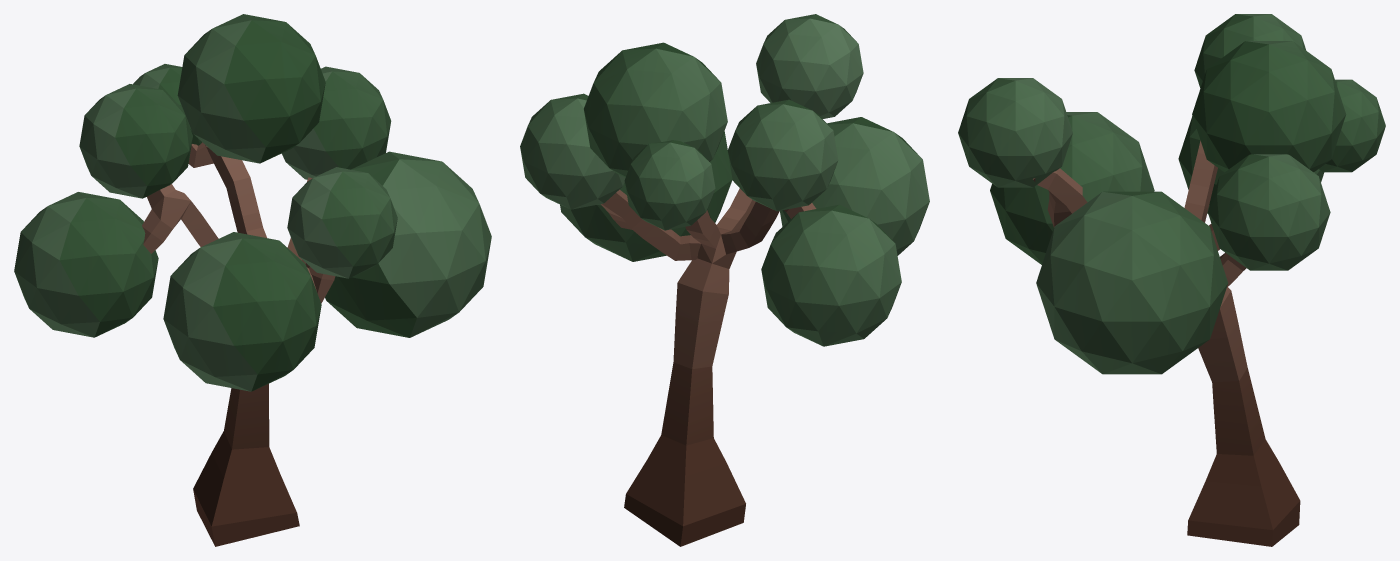
Rendered from Arvore_Verde1.fbx.
The picture shows the model from 3 angles, left to right: view 1: azimuth 30°, elevation 25°; view 2: azimuth 150°, elevation 25°; view 3: azimuth 270°, elevation 25°; orthographic projection. The views are drawn at different scales.
Parts seen in each view (by area): view 1: folha9; view 2: folha9; view 3: folha9.
Part boxes in pixels (left/top/right/bottom): folha9: left=14, top=14, right=491, bottom=546; folha9: left=520, top=14, right=929, bottom=546; folha9: left=958, top=14, right=1385, bottom=546.
Bounding box in the file's own units: 613 × 734 × 569.
Materials: 9 (9 with a texture image).
